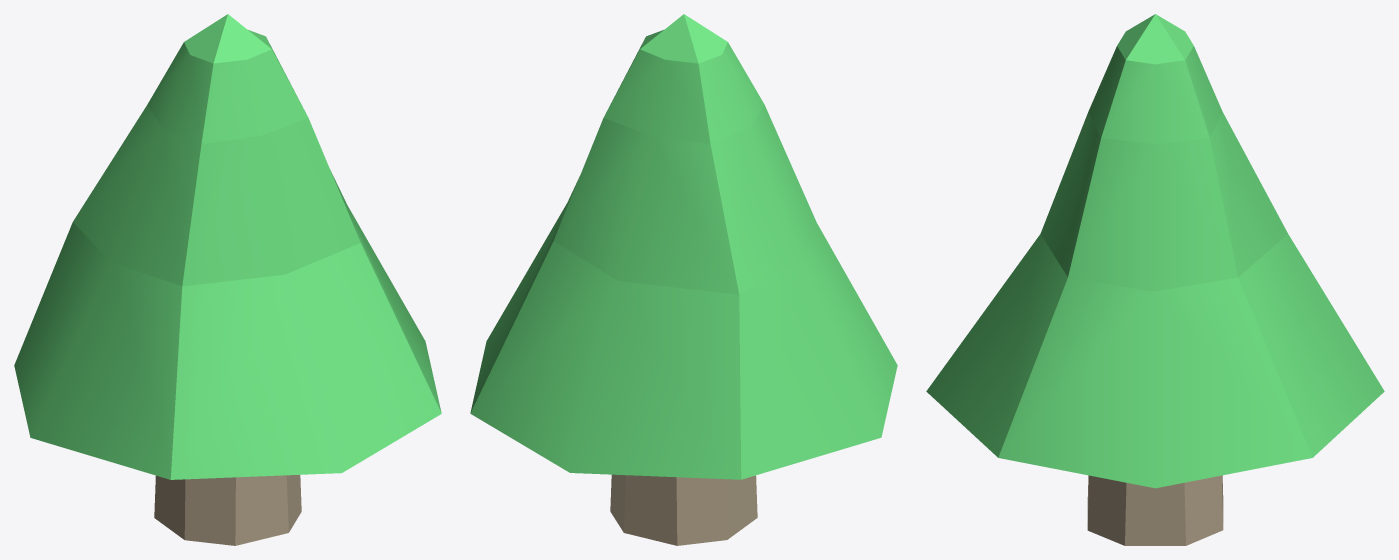
The model's file is lowPolyFBX.fbx.
3 views of the same model, side by side, from view 1: azimuth 30°, elevation 25°; view 2: azimuth 150°, elevation 25°; view 3: azimuth 270°, elevation 25° (orthographic).
Visible parts, largest first — view 1: pCube1; view 2: pCube1; view 3: pCube1.
Part boxes in pixels (x1=…): pCube1: x1=14, y1=14, x2=441, y2=545; pCube1: x1=470, y1=14, x2=897, y2=545; pCube1: x1=926, y1=14, x2=1384, y2=545.
Bounding box in the file's own units: 330 × 400 × 330.
